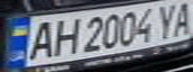0: (118, 8, 142, 46), (103, 10, 124, 49)
2: (81, 12, 106, 53)
4: (133, 4, 160, 43)
A: (24, 18, 57, 61), (166, 0, 193, 36)
H: (48, 16, 81, 56)
Y: (151, 1, 181, 39)
